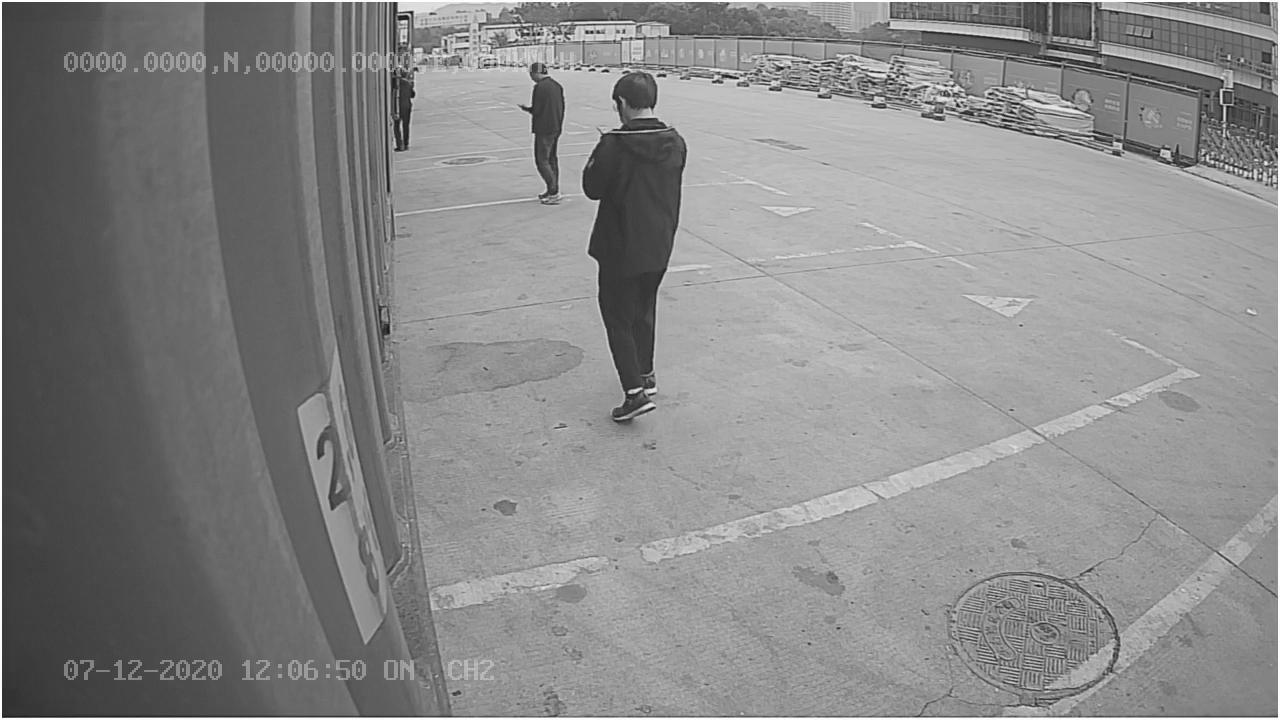person: (579, 73, 685, 424)
